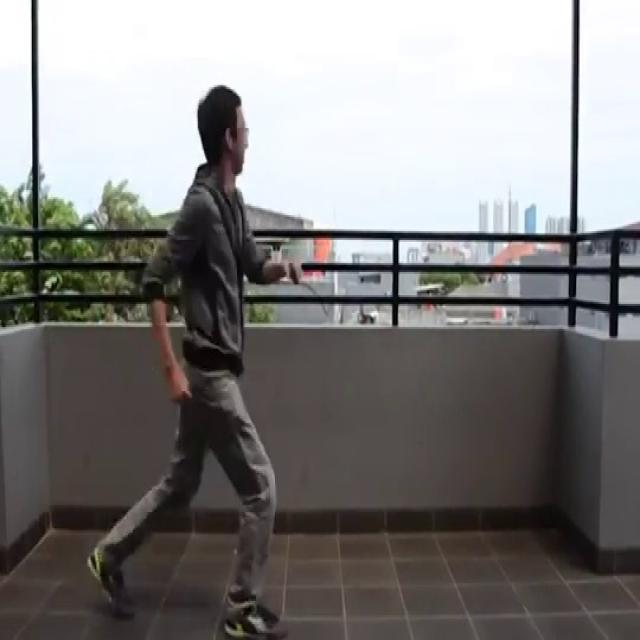normal: (88, 82, 320, 640)
